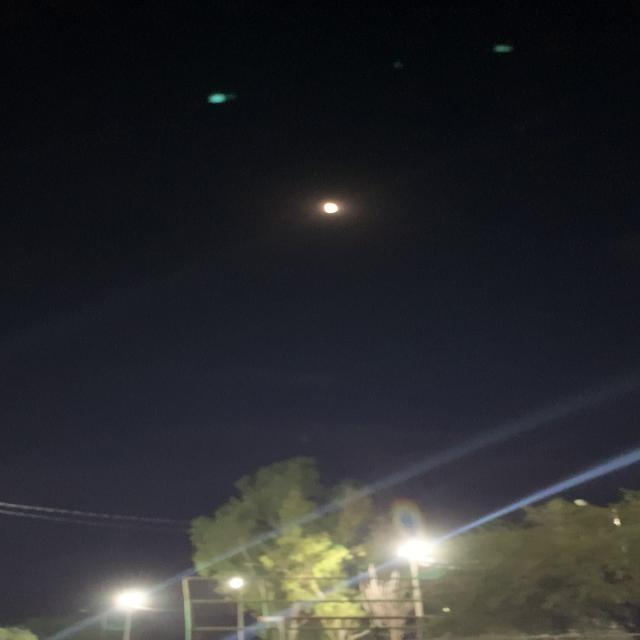moon: (304, 201, 360, 229)
